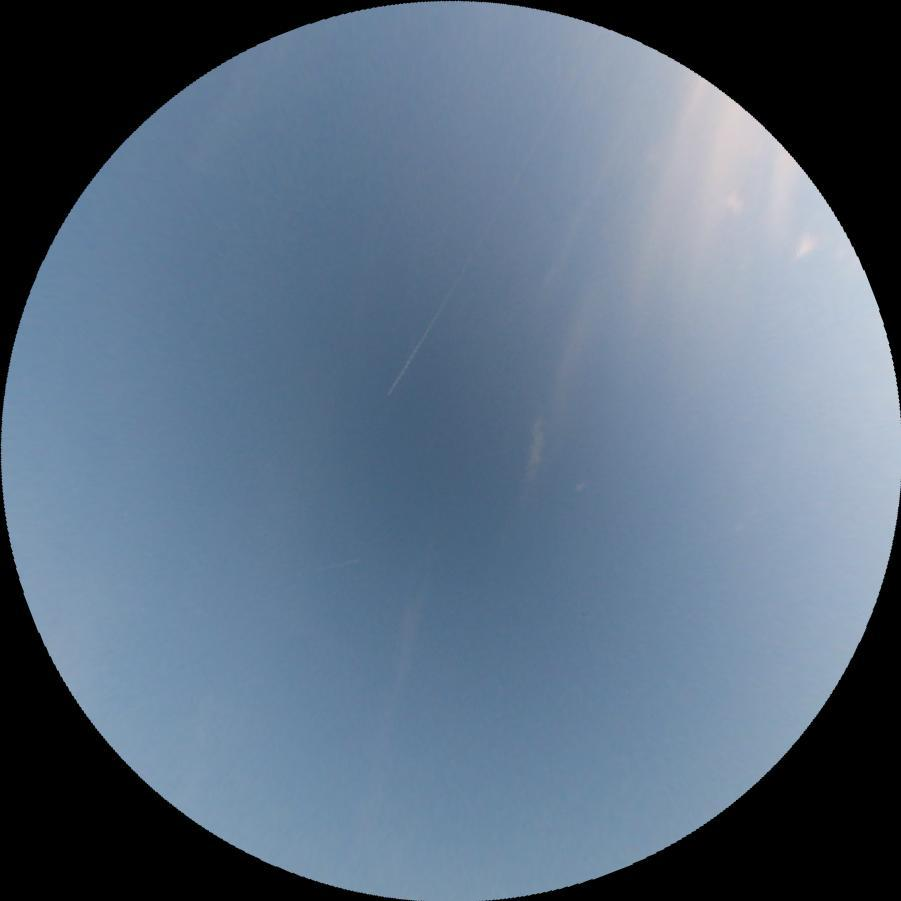contrail young: (386, 97, 562, 394), (309, 557, 358, 573)
